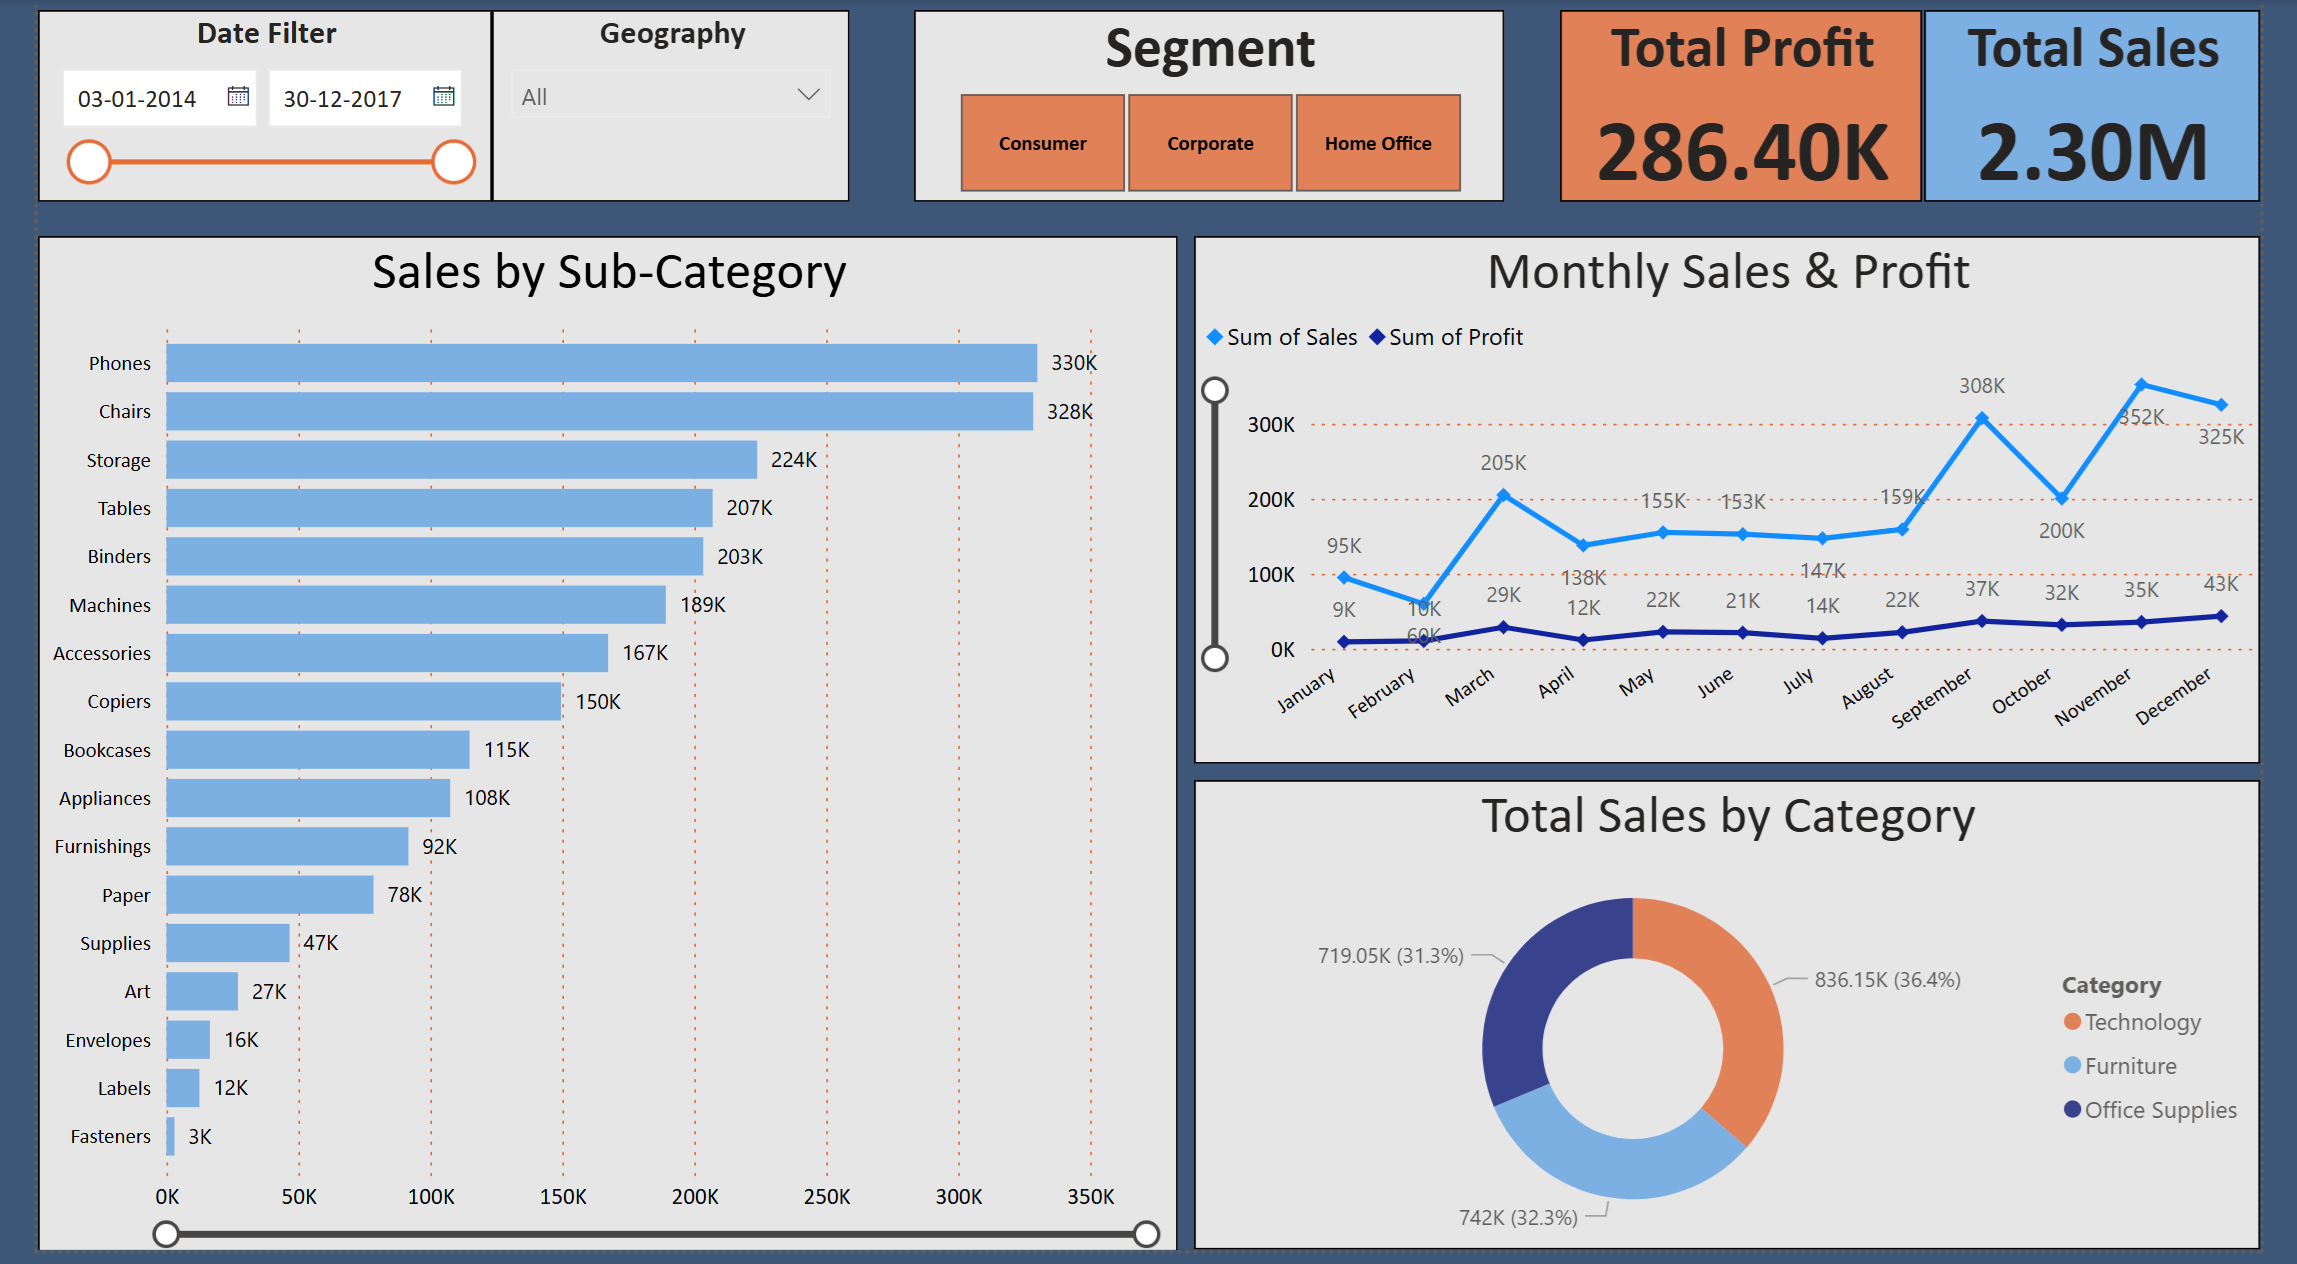

The page's visual inventory and layout, read from the dashboard file:
{"tool":"powerbi","page":{"name":"Page 1","canvas":[1280,720],"ordinal":0},"visuals":[{"type":"card","title":"Total Profit","fields":{"Values":["Sample - Superstore.Total Profit"]},"box":[877.8,5.8,208.5,110.6],"z":0},{"type":"card","title":"Total Sales","fields":{"Values":["Sample - Superstore.Total Sales"]},"box":[1086.3,5.8,193.5,110.6],"z":1},{"type":"clusteredBarChart","title":"Sales by Sub-Category","fields":{"Category":["Sample - Superstore.Sub-Category"],"Y":["Sum(Sample - Superstore.Sales)"]},"box":[0,135.9,656.6,585.2],"z":3},{"type":"lineChart","title":"Monthly Sales & Profit","fields":{"Category":["Sample - Superstore.Order Date.Variation.Date Hierarchy.Month"],"Y":["Sum(Sample - Superstore.Sales)","Sum(Sample - Superstore.Profit)"]},"box":[665.9,135.9,614,304.1],"z":4},{"type":"donutChart","fields":{"Category":["Sample - Superstore.Category"],"Y":["Sample - Superstore.Total Sales"]},"box":[665.9,449.3,614,270.7],"z":5},{"type":"slicer","title":"Date Filter","fields":{"Values":["Sample - Superstore.Order Date"]},"box":[0,5.8,261.5,110.6],"z":6},{"type":"slicer","title":"Geography","fields":{"Values":["Sample - Superstore.Region"]},"box":[261.5,5.8,206.2,110.6],"z":7},{"type":"slicer","title":"Segment","fields":{"Values":["Sample - Superstore.Segment"]},"box":[504.6,5.8,339.8,110.6],"z":8}]}

Visuals, with their boxes in screenshot pixels (x1, y1, x2, y2), scaled from the page's 1280x720 canvas onto the 2297x1264 screenshot:
"Total Profit" card: bbox=[1575, 10, 1949, 204]
"Total Sales" card: bbox=[1949, 10, 2296, 204]
"Sales by Sub-Category" clusteredBarChart: bbox=[0, 239, 1178, 1263]
"Monthly Sales & Profit" lineChart: bbox=[1195, 239, 2296, 772]
donutChart - Sample - Superstore.Category x Sample - Superstore.Total Sales: bbox=[1195, 789, 2296, 1263]
"Date Filter" slicer: bbox=[0, 10, 469, 204]
"Geography" slicer: bbox=[469, 10, 839, 204]
"Segment" slicer: bbox=[906, 10, 1515, 204]
